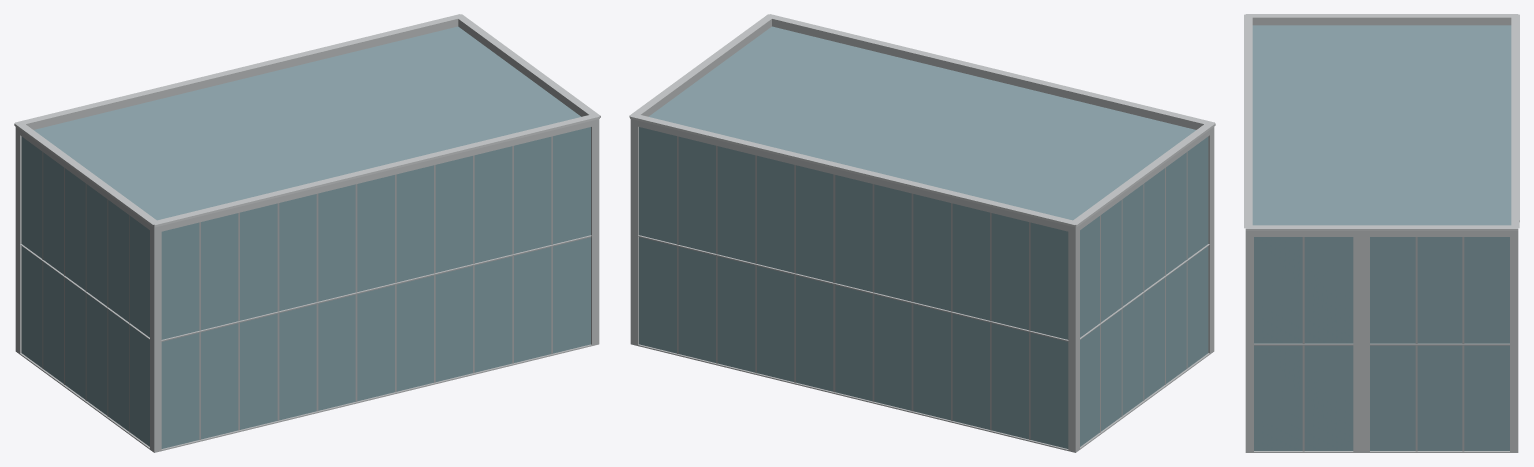
The picture shows the model from 3 angles, left to right: view 1: azimuth 30°, elevation 25°; view 2: azimuth 150°, elevation 25°; view 3: azimuth 270°, elevation 25°; orthographic projection.
Visible parts, largest first — view 1: hanaSquareNorth__glass, hanaSquareNorth__roofGlass, hanaSquareNorth__wall, hanaSquareNorth__trim, hanaSquareNorth__parapet, hanaSquareNorth__frame; view 2: hanaSquareNorth__glass, hanaSquareNorth__roofGlass, hanaSquareNorth__wall, hanaSquareNorth__trim, hanaSquareNorth__parapet, hanaSquareNorth__frame; view 3: hanaSquareNorth__roofGlass, hanaSquareNorth__glass, hanaSquareNorth__wall, hanaSquareNorth__trim, hanaSquareNorth__parapet, hanaSquareNorth__frame.
Part boxes in pixels (x1,y1,x2,y2): hanaSquareNorth__glass: (21,127,590,448); hanaSquareNorth__roofGlass: (34,26,580,220); hanaSquareNorth__wall: (15,124,599,452); hanaSquareNorth__trim: (14,14,600,227); hanaSquareNorth__parapet: (15,19,599,232); hanaSquareNorth__frame: (21,136,591,439); hanaSquareNorth__glass: (639,127,1208,448); hanaSquareNorth__roofGlass: (649,26,1195,220); hanaSquareNorth__wall: (630,124,1214,452); hanaSquareNorth__trim: (629,14,1215,227); hanaSquareNorth__parapet: (630,19,1214,232); hanaSquareNorth__frame: (638,136,1208,439); hanaSquareNorth__roofGlass: (1252,25,1511,225); hanaSquareNorth__glass: (1254,237,1509,450); hanaSquareNorth__wall: (1245,236,1518,452); hanaSquareNorth__trim: (1244,14,1519,230); hanaSquareNorth__parapet: (1245,17,1518,235); hanaSquareNorth__frame: (1254,237,1509,451).
Bounding box in the file's own units: 21.24 × 10.35 × 11.52.
